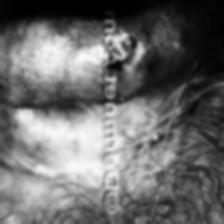Potentially Malignant Skin Tumors: (102, 32, 136, 68)
